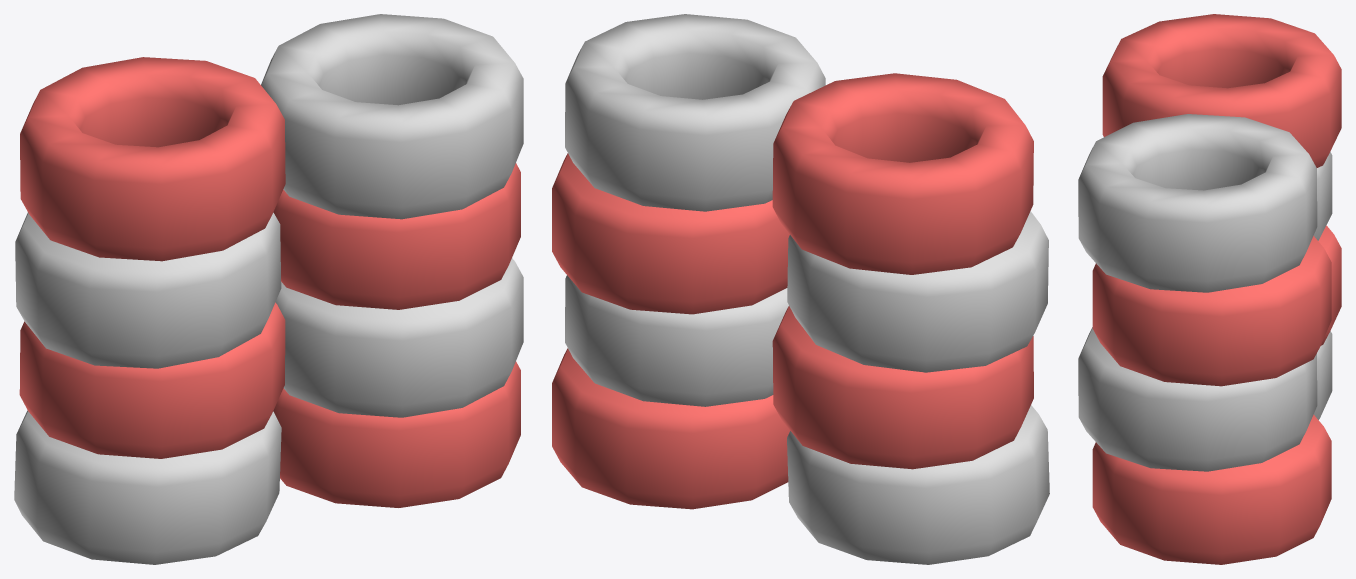
Rendered from neumaticos 5.fbx.
The picture shows the model from 3 angles, left to right: view 1: azimuth 30°, elevation 25°; view 2: azimuth 150°, elevation 25°; view 3: azimuth 270°, elevation 25°; orthographic projection. The views are drawn at different scales.
Parts seen in each view (by area): view 1: Circle.079; view 2: Circle.079; view 3: Circle.079.
Boxes of the visible parts, bbox=[...] form: Circle.079: bbox=[14, 14, 523, 564]; Circle.079: bbox=[552, 14, 1049, 564]; Circle.079: bbox=[1078, 14, 1341, 564].
Size of the model in its own units: 161 by 131 by 86.64.
